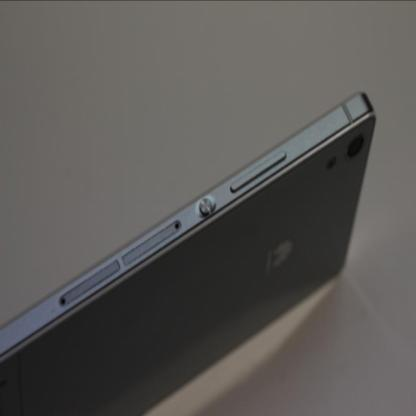phone good: (8, 34, 378, 416)
